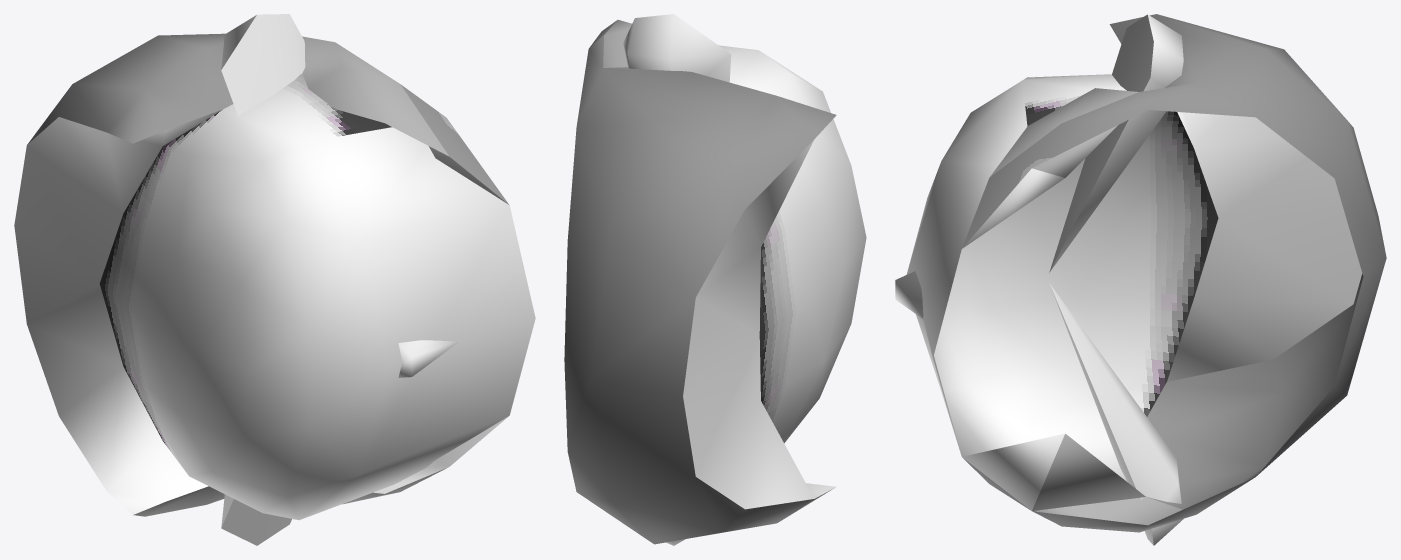
The model's file is girl15b.dae.
3 views of the same model, side by side, from view 1: azimuth 30°, elevation 25°; view 2: azimuth 150°, elevation 25°; view 3: azimuth 270°, elevation 25° (orthographic).
Parts seen in each view (by area): view 1: girl15b; view 2: girl15b; view 3: girl15b.
Part boxes in pixels (box(x1,y1,x2,y2)): girl15b: box(14, 14, 535, 545); girl15b: box(564, 14, 866, 545); girl15b: box(895, 14, 1386, 545).
Bounding box in the file's own units: 16.57 × 26.71 × 22.66.
Materials: 3 (1 with a texture image).
